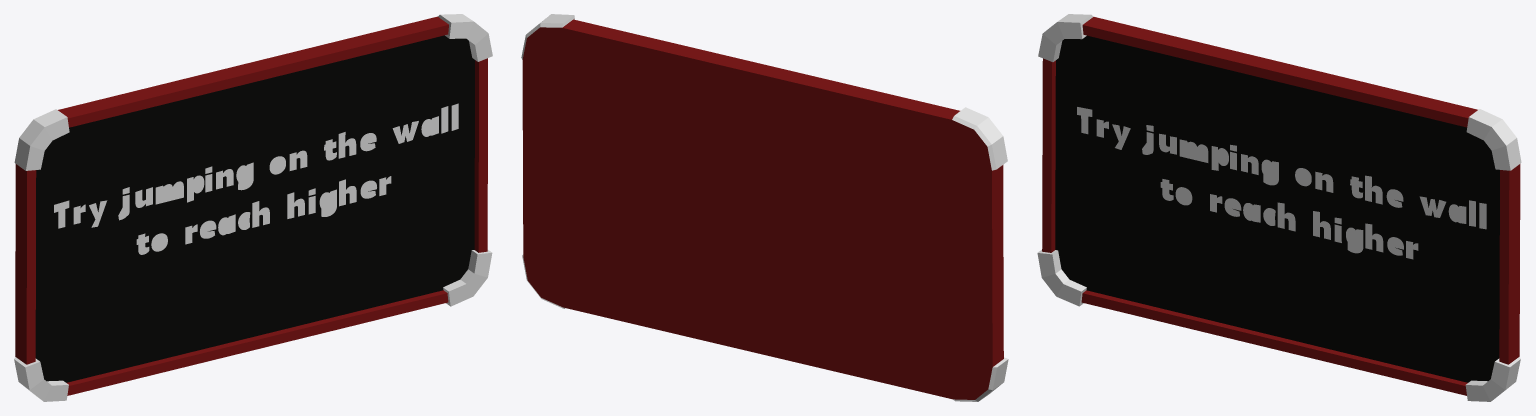
File: Tuto5.FBX
3 views of the same model, side by side, from view 1: azimuth 30°, elevation 25°; view 2: azimuth 150°, elevation 25°; view 3: azimuth 330°, elevation 25° (orthographic).
Visible parts, largest first — view 1: Pizarra 7, Text 2; view 2: Pizarra 7; view 3: Pizarra 7, Text 2.
Boxes of the visible parts, box(x1,y1,x2,y2) form: Pizarra 7: box(14, 14, 492, 401); Text 2: box(54, 103, 458, 254); Pizarra 7: box(521, 14, 1008, 401); Pizarra 7: box(1037, 14, 1521, 401); Text 2: box(1077, 107, 1486, 259).
Size of the model in its own units: 77.68 by 44.99 by 4.52.
